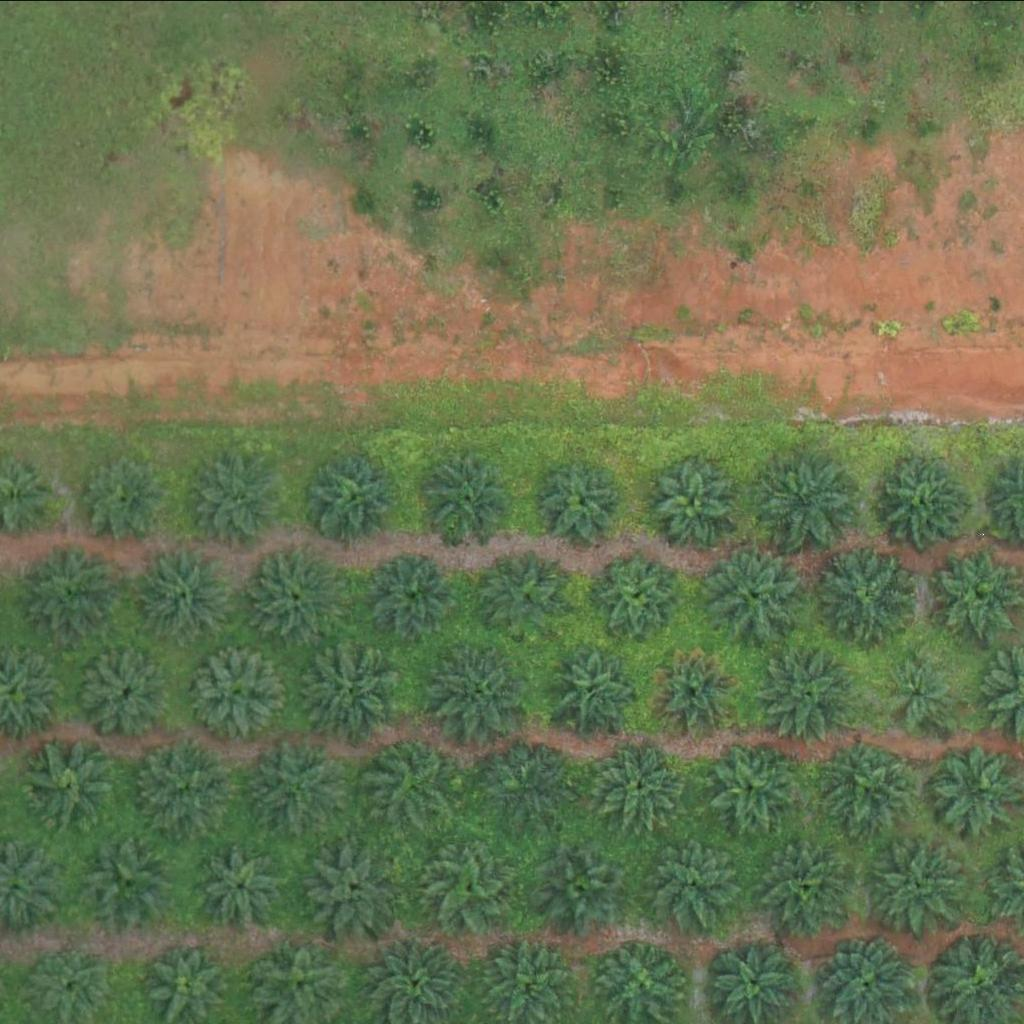Kelapa_Sawit: (76, 831, 177, 931), (129, 736, 230, 836), (250, 731, 351, 831), (189, 640, 290, 740), (300, 641, 401, 741), (433, 640, 534, 740), (134, 538, 235, 638), (245, 545, 346, 645), (304, 446, 405, 546), (704, 736, 805, 836), (820, 735, 921, 835), (640, 830, 741, 930), (757, 833, 858, 933), (866, 834, 967, 934), (23, 542, 123, 642), (19, 736, 119, 836), (298, 837, 398, 937), (359, 728, 459, 828), (479, 729, 579, 829), (754, 451, 854, 551), (706, 546, 806, 646), (820, 544, 920, 644), (758, 641, 858, 741), (85, 646, 174, 734), (199, 841, 287, 929), (421, 842, 509, 930), (540, 839, 628, 927), (369, 552, 457, 640), (425, 450, 513, 538), (539, 454, 627, 542), (649, 453, 737, 541), (596, 739, 684, 827), (370, 936, 458, 1023), (481, 549, 569, 636), (79, 453, 167, 540), (194, 453, 282, 540), (553, 644, 641, 731), (886, 454, 974, 541), (592, 552, 680, 639), (650, 648, 738, 735), (932, 745, 1020, 832), (886, 654, 962, 729), (147, 944, 223, 1019)
